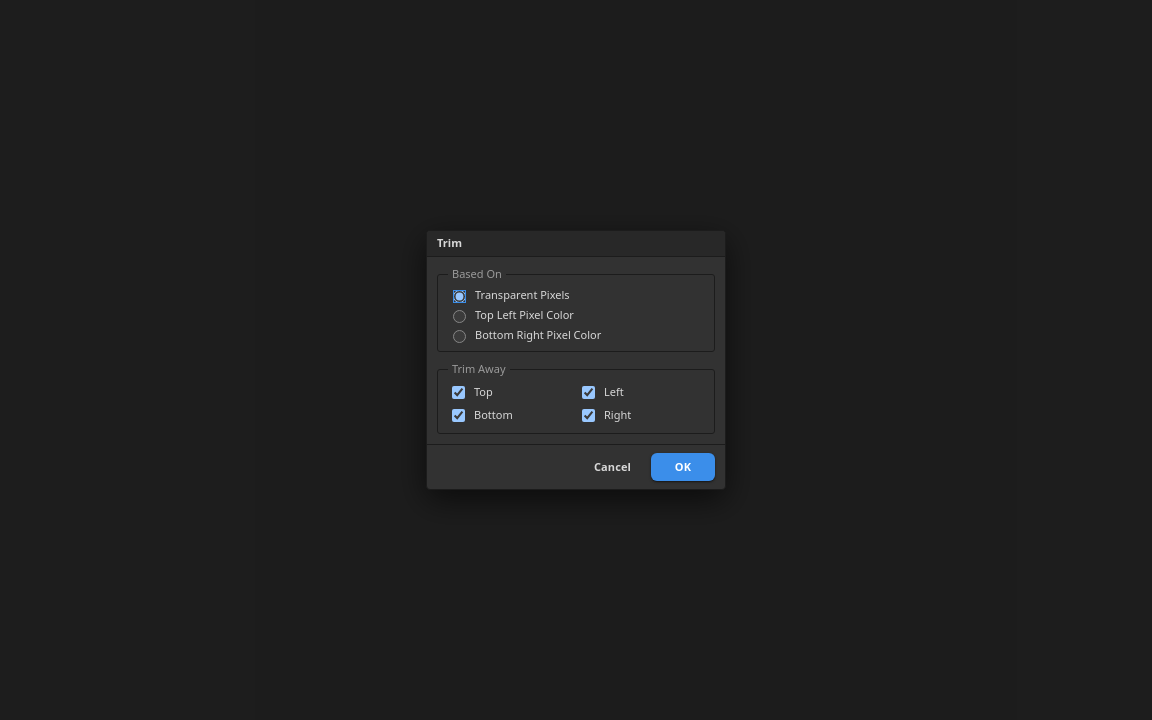
Test: without a side, OK waits
Click the checkbox labelled "Top": {"x": 458, "y": 393} [452,386,465,399]
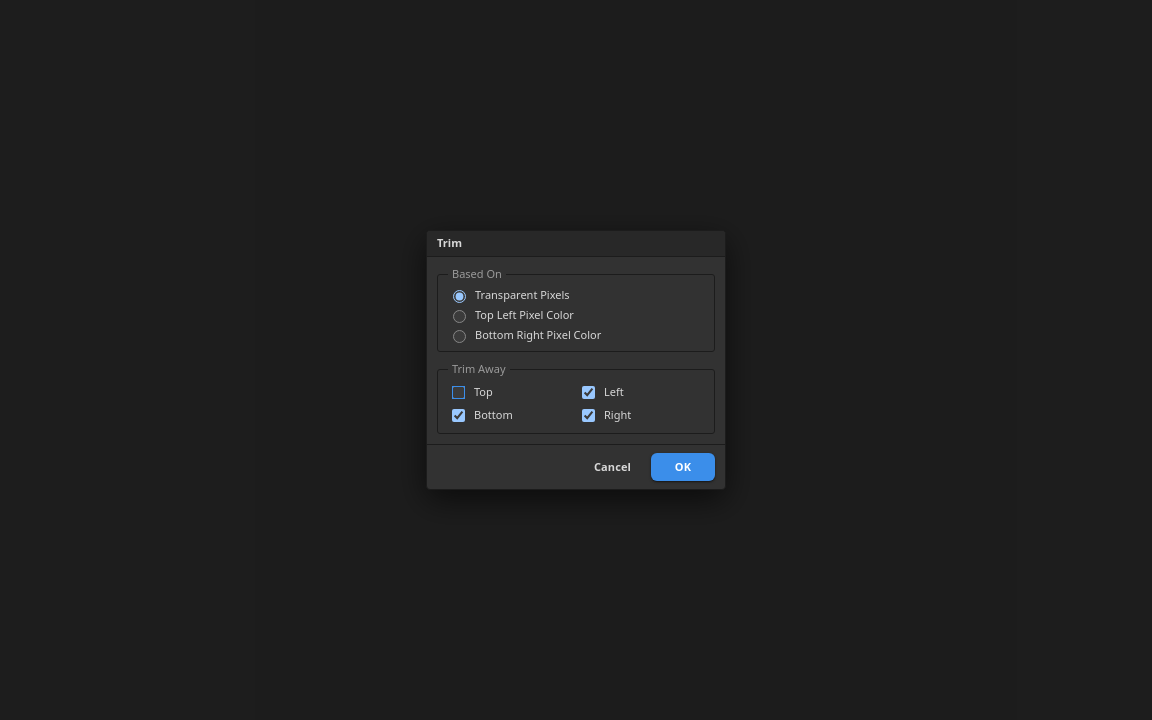
Click the checkbox labelled "Bottom": {"x": 458, "y": 416} [452,409,465,422]
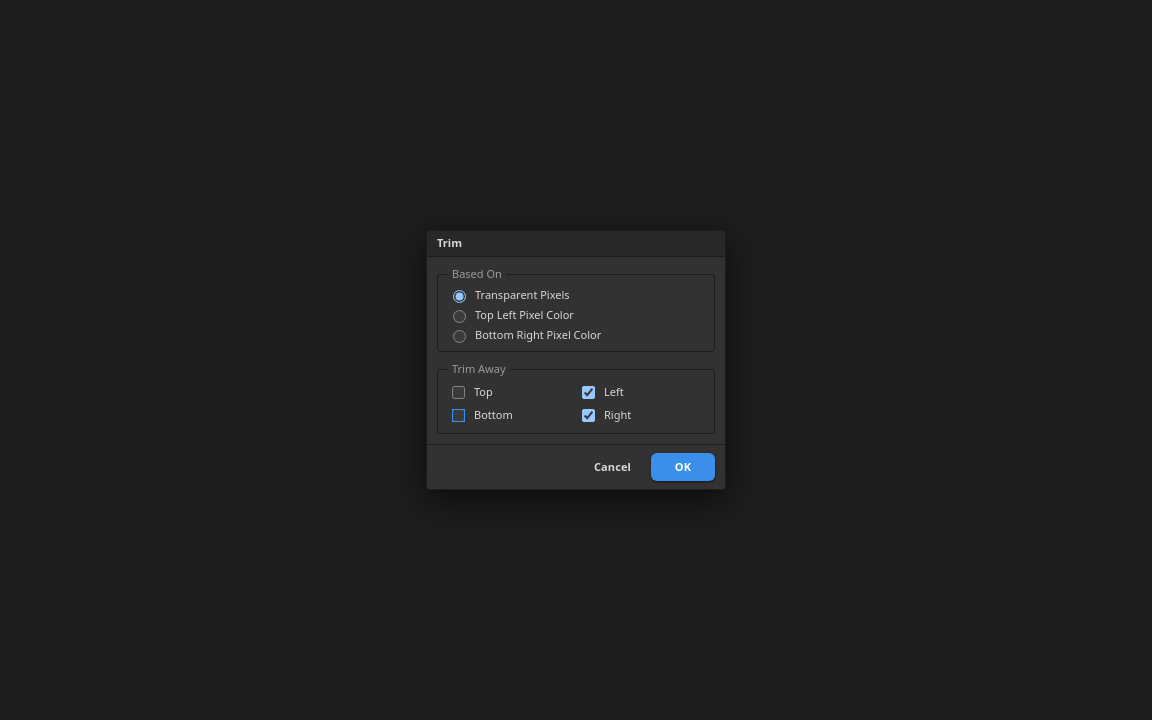
Click the checkbox labelled "Left": {"x": 588, "y": 393} [582,386,595,399]
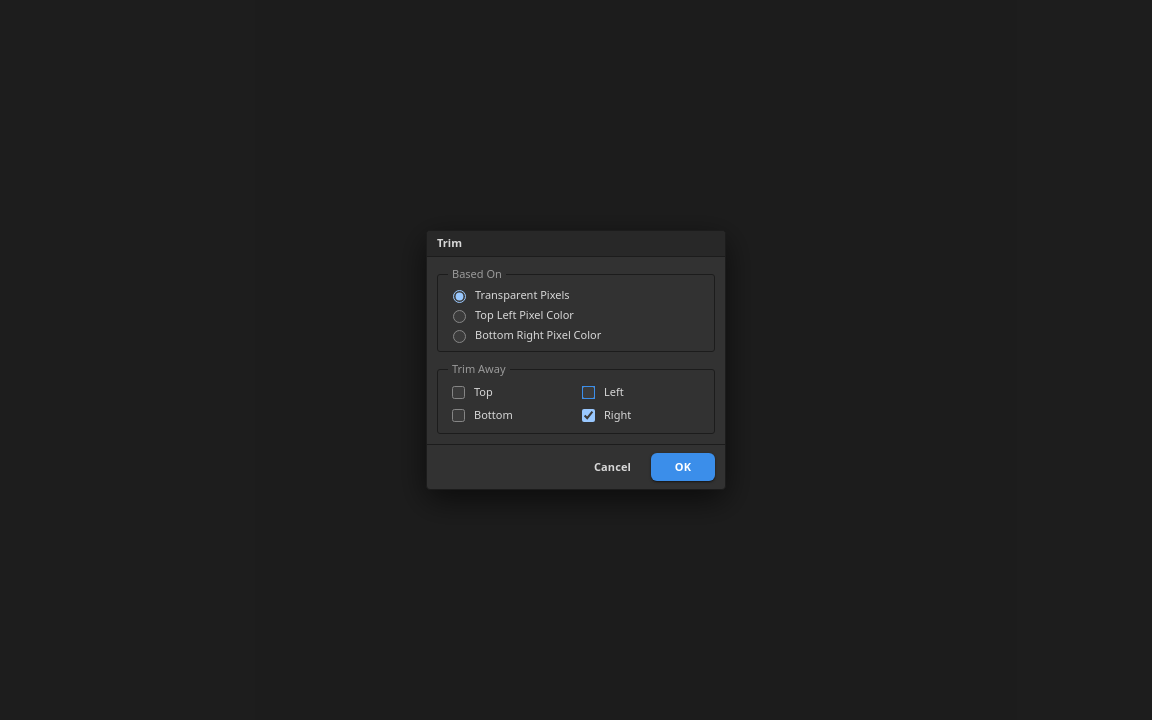
Click the checkbox labelled "Right": {"x": 588, "y": 416} [582,409,595,422]
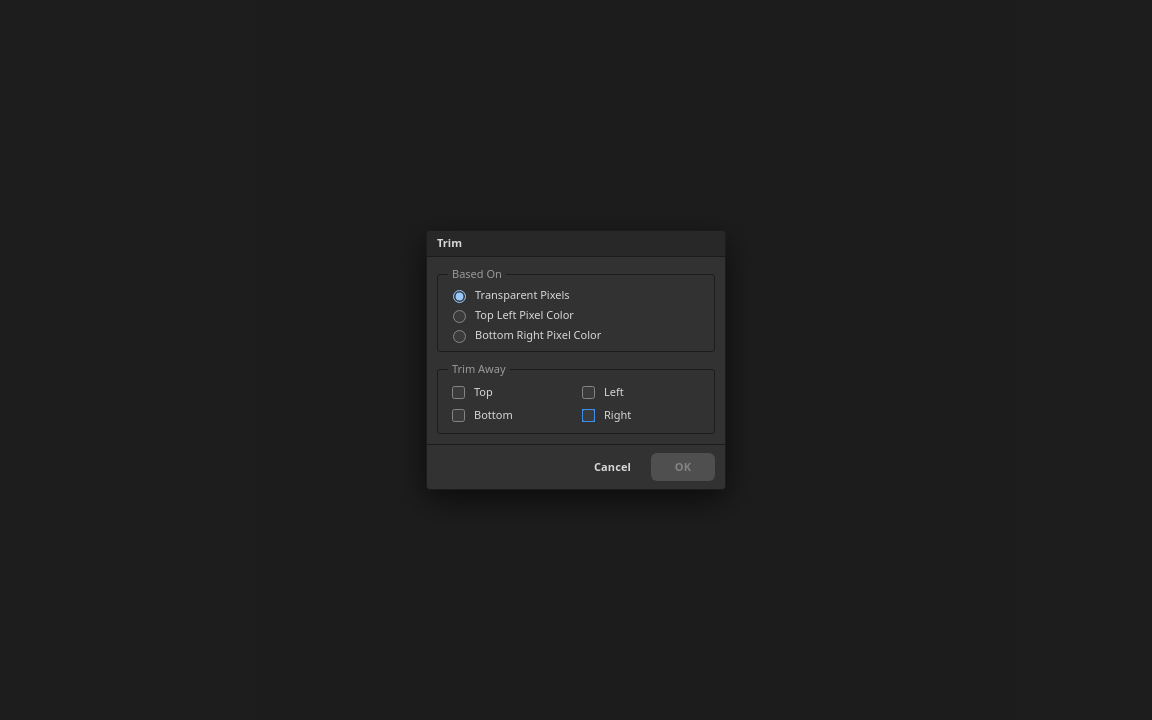
Result: the button "OK" is disabled at [651,453,715,481]
